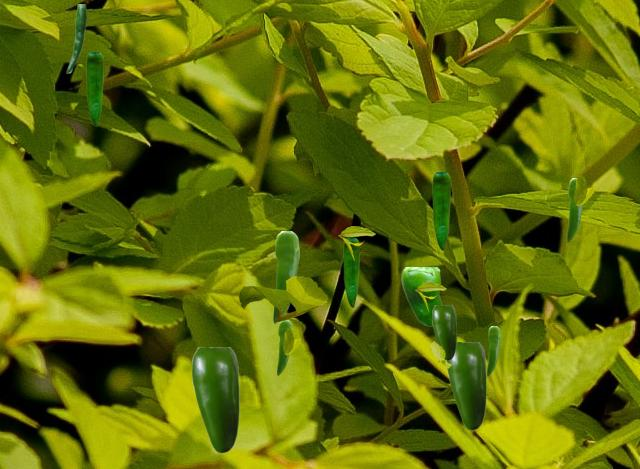green_chili: (192, 347, 238, 452), (447, 342, 485, 429), (273, 231, 298, 322), (401, 267, 440, 325), (432, 172, 449, 249), (66, 4, 85, 72), (432, 305, 455, 359), (86, 52, 102, 125), (343, 238, 358, 306), (567, 178, 583, 241), (277, 320, 291, 374), (487, 326, 499, 375)
